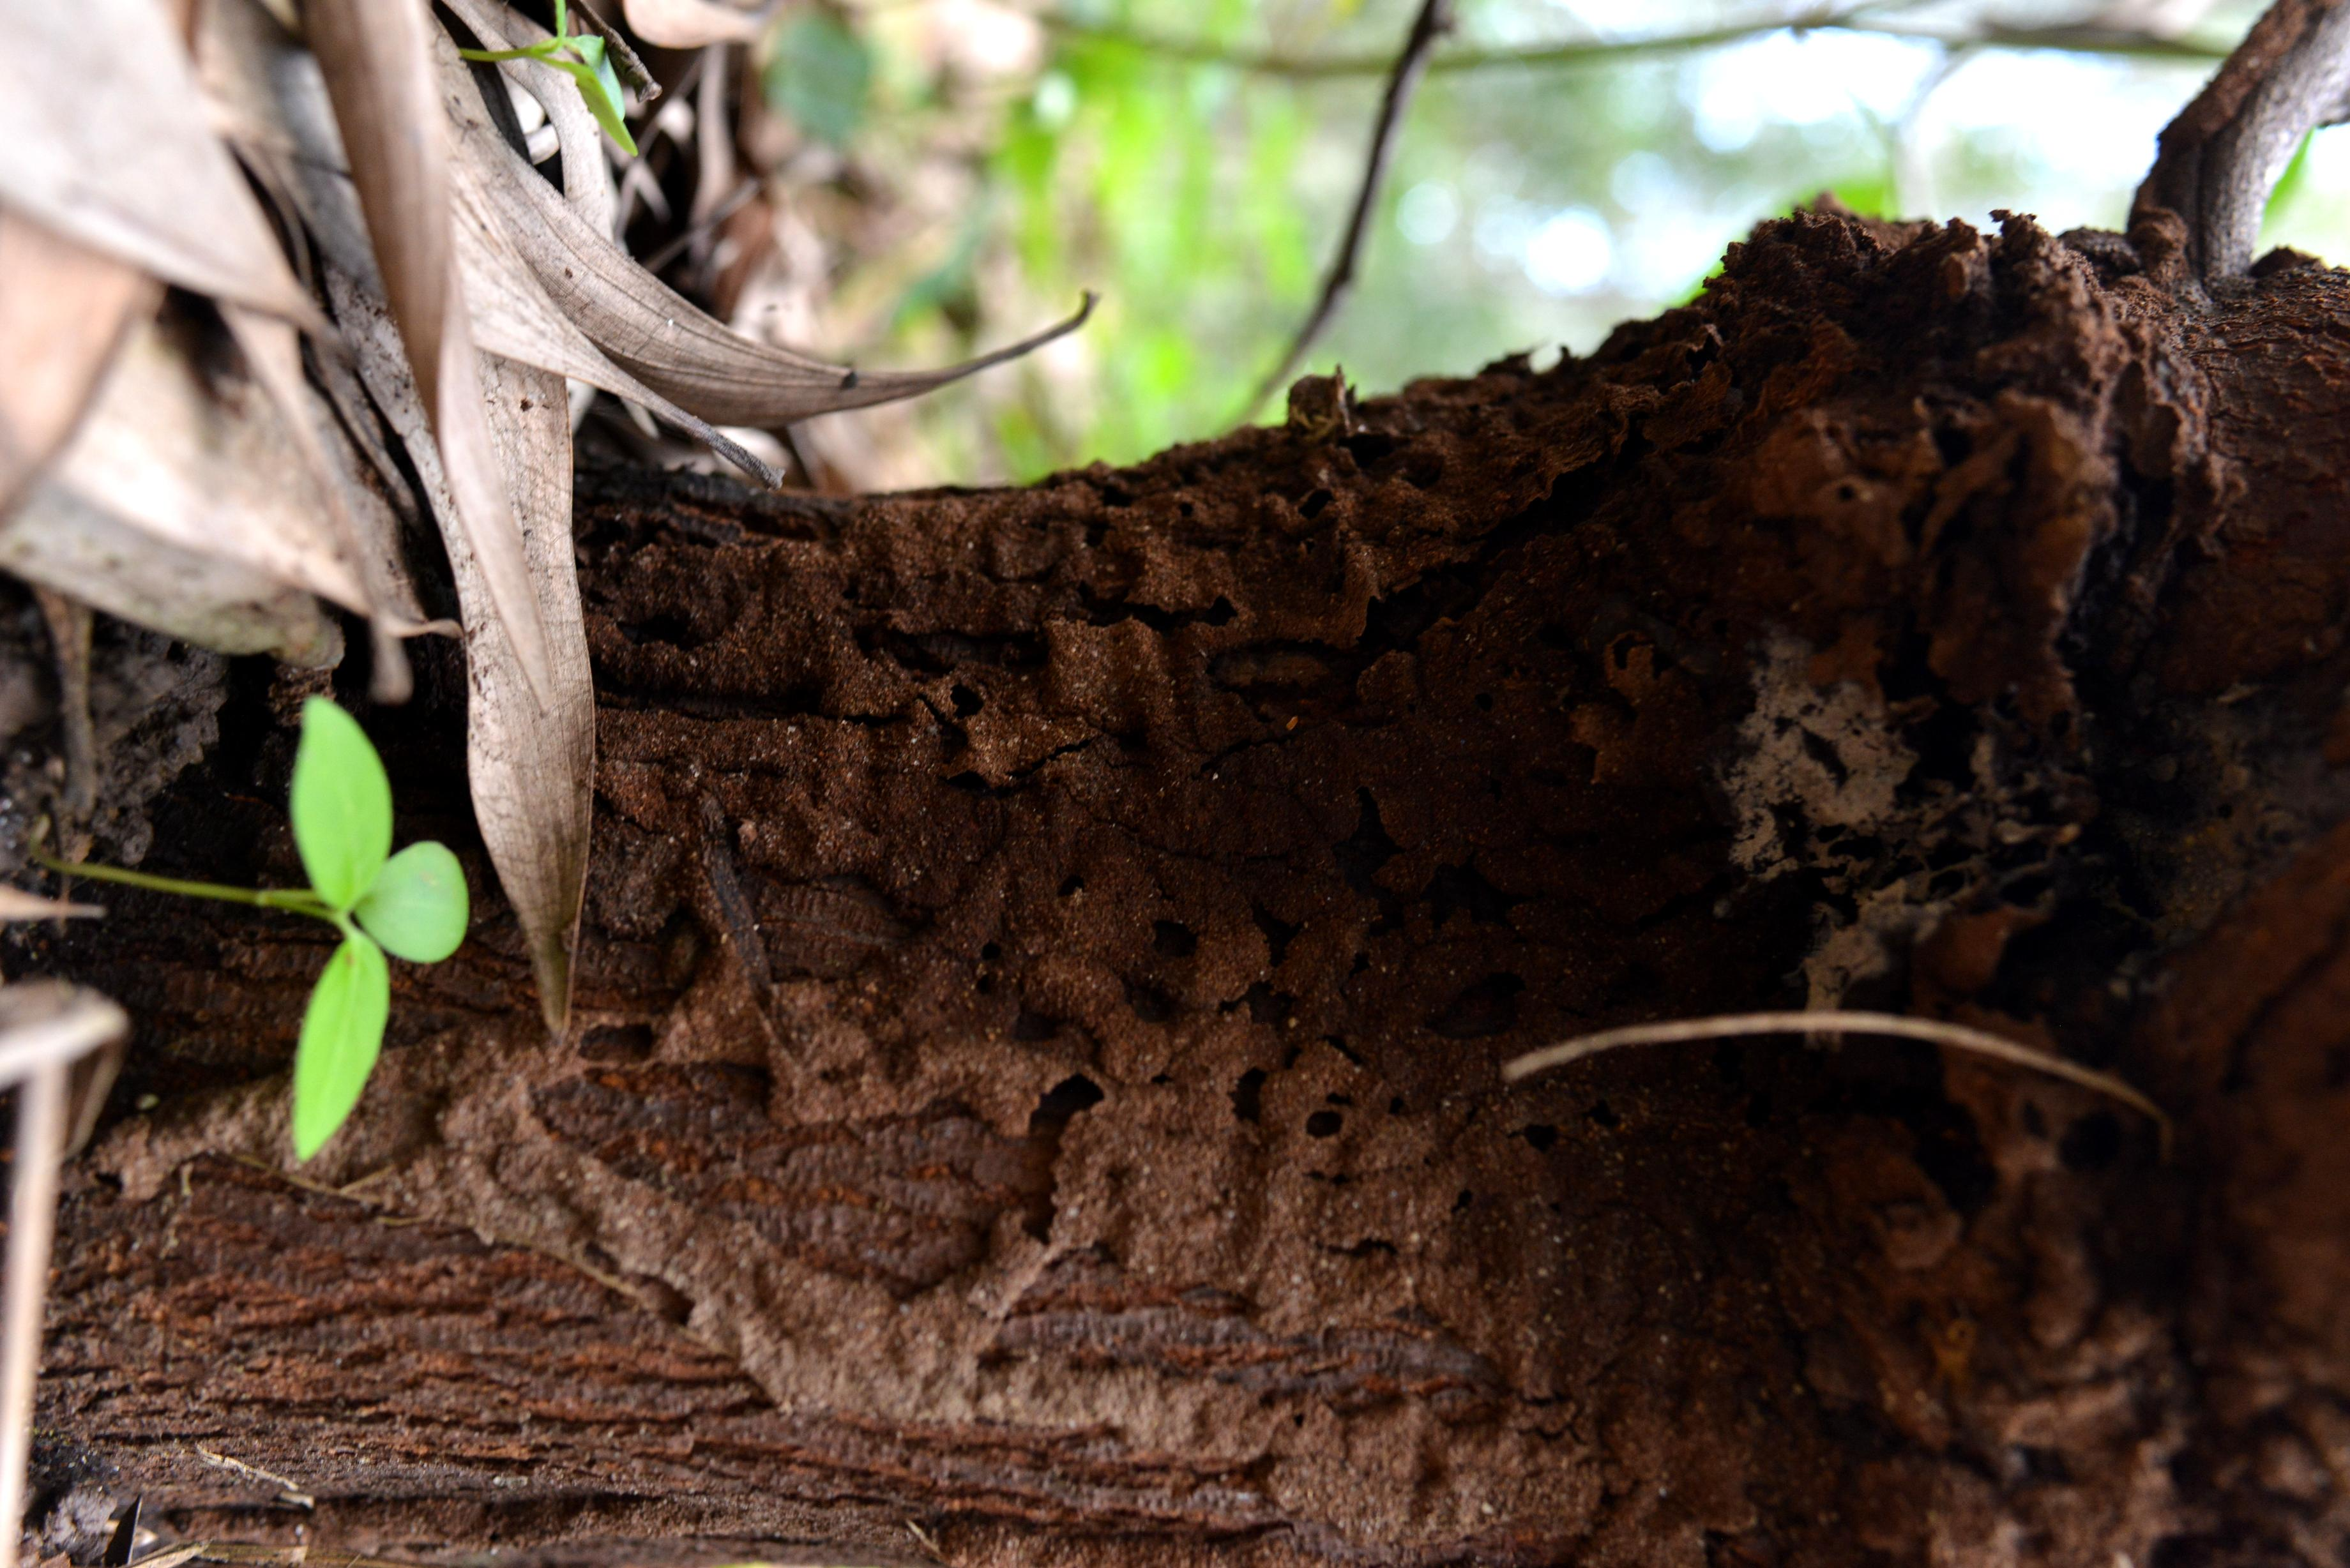Termite - Nest: (689, 236, 2341, 1494), (87, 955, 1727, 1568), (560, 355, 1452, 915)
